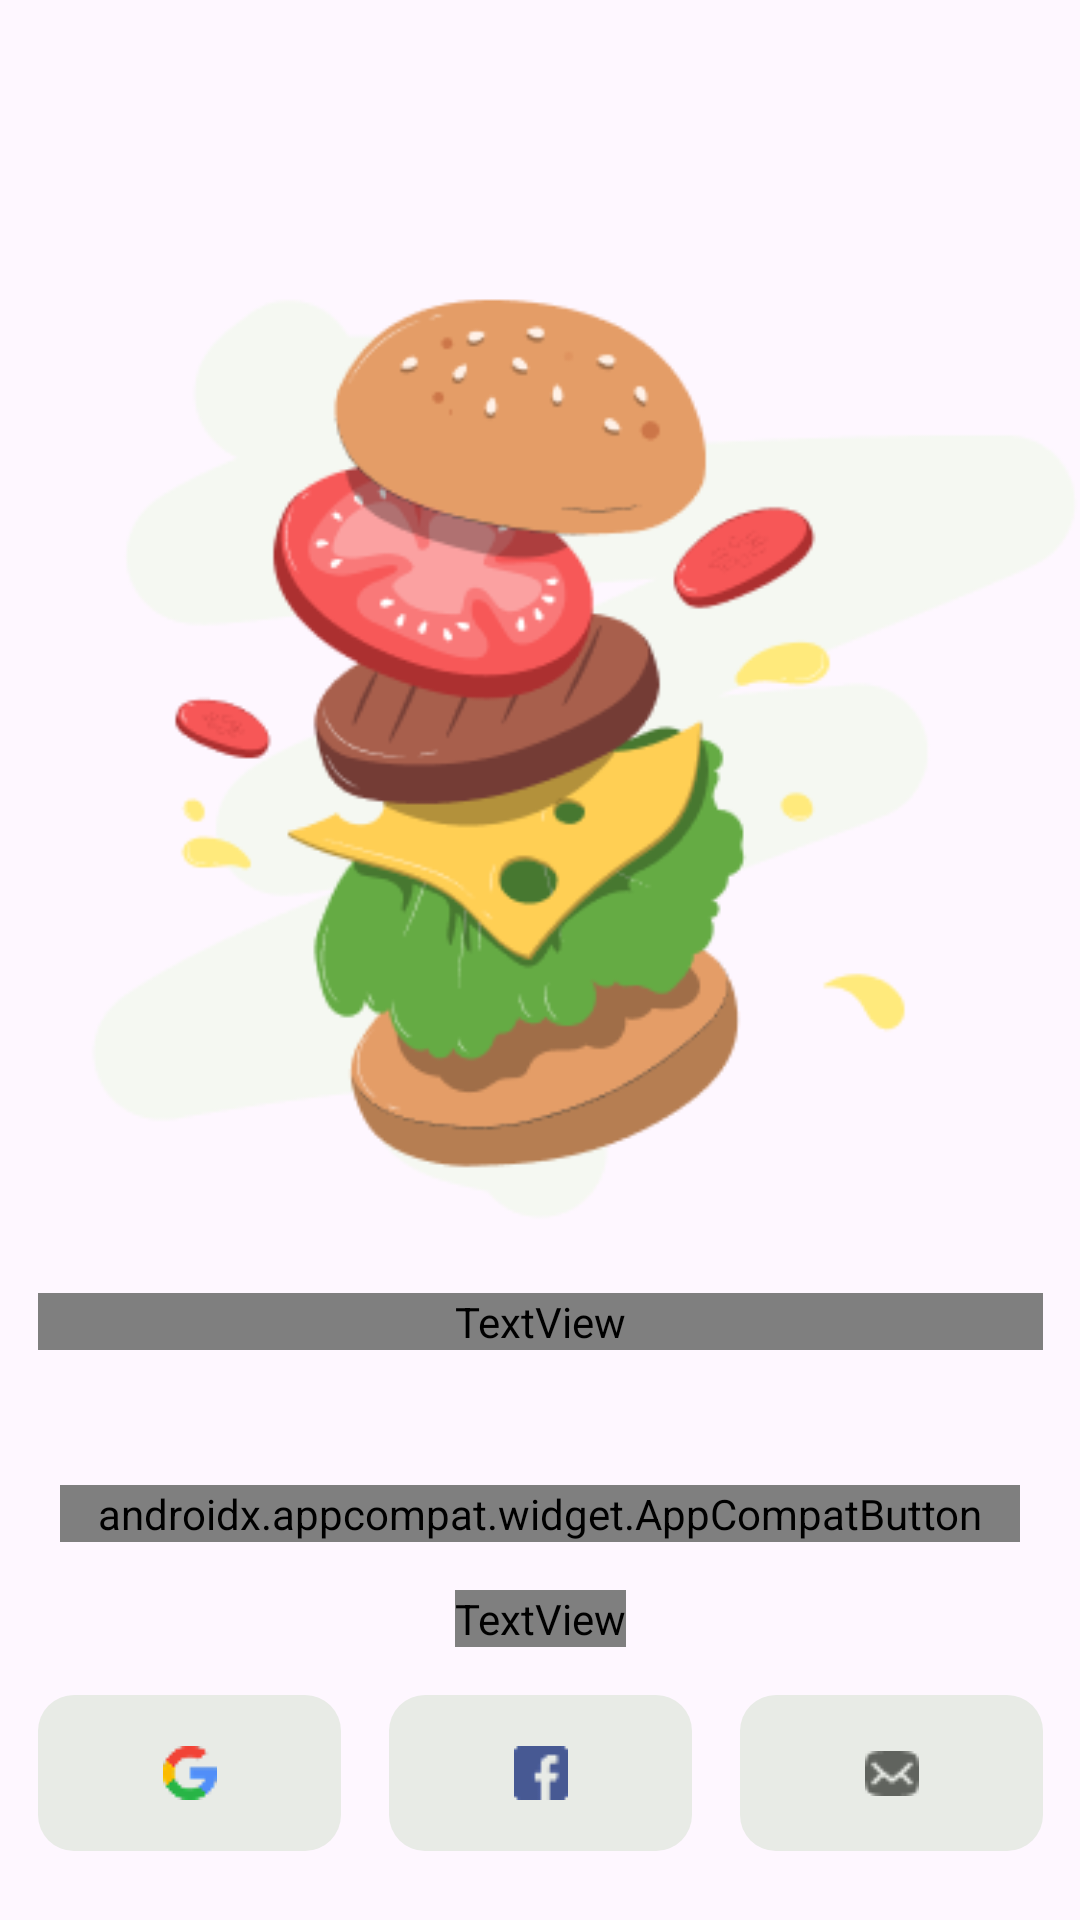

Icons on this 1080w x 1920h Android screen, each with its box as [x1, y1, x2, y2]:
Email: [740, 1695, 1043, 1851]
